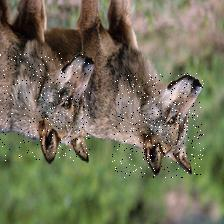WOLF: (0, 52, 91, 160), (112, 72, 204, 177)
